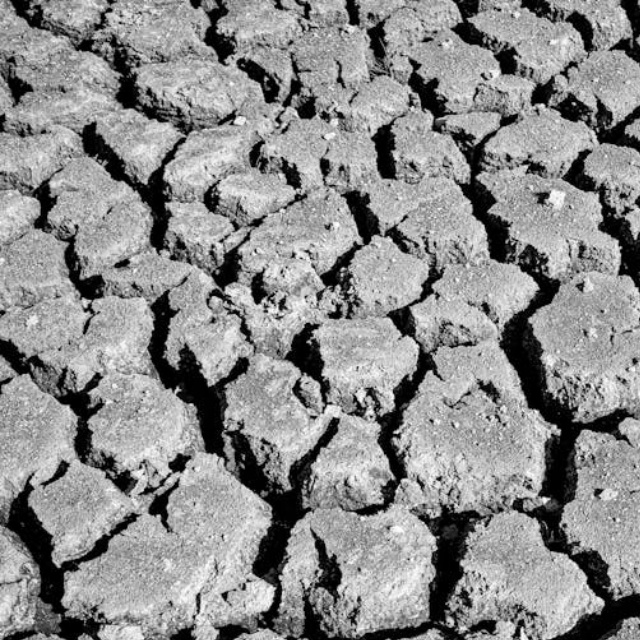深大裂缝: (0, 292, 481, 640)
细微裂纹: (7, 242, 407, 574)
网状裂隙: (3, 179, 538, 640)
